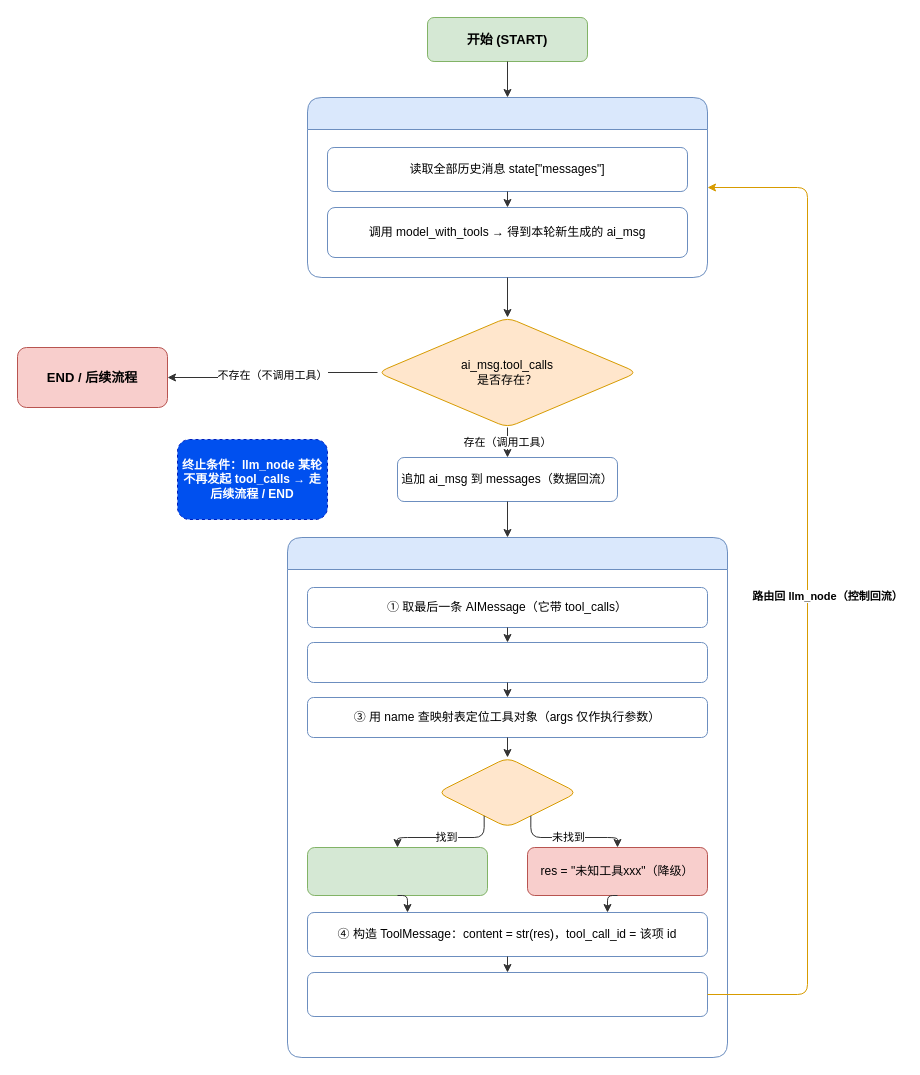
Image size: 920x1075. Some labels were removed from this diagram. The box of each missing label's shape, as (x1, y1, x2, y2) in pixels:
llm_node: (306, 96, 708, 278)
tool.invoke(args) → res: (306, 846, 488, 896)
tool_node: (286, 536, 728, 1058)
② 遍历 tool_calls（逐项消费 name / args / id）: (306, 642, 708, 682)
⑤ 追加全部 ToolMessage 到 messages（数据回流）: (306, 972, 708, 1016)
找到？: (436, 756, 578, 828)
